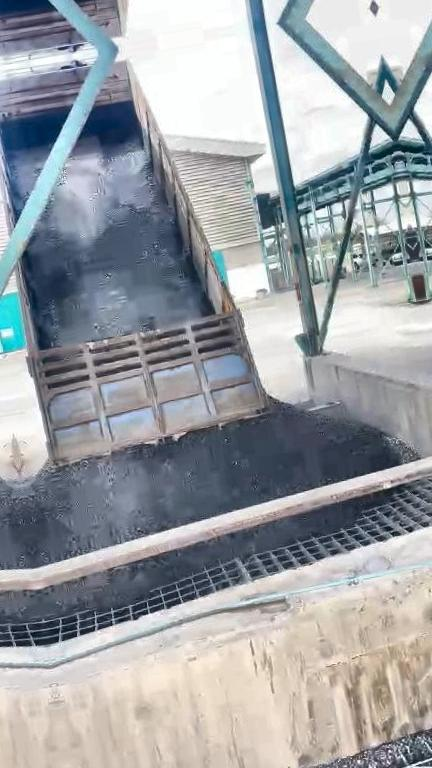gravel: (23, 401, 414, 566), (40, 493, 385, 617), (187, 707, 432, 768)
